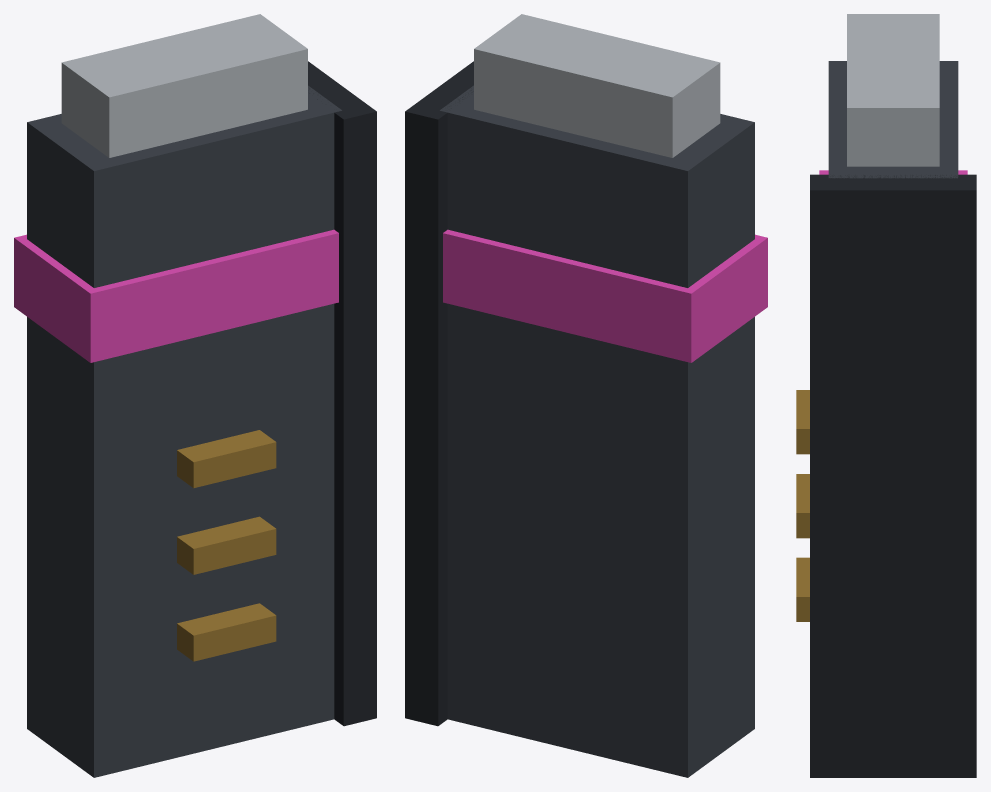
The model's file is flechette-mag-plasma.glb.
The picture shows the model from 3 angles, left to right: view 1: azimuth 30°, elevation 25°; view 2: azimuth 150°, elevation 25°; view 3: azimuth 270°, elevation 25°; orthographic projection. The views are drawn at different scales.
Parts seen in each view (by area): view 1: m; view 2: m; view 3: m.
Part boxes in pixels (x1,y1,x2,y2): m: (14, 14, 376, 777); m: (405, 14, 767, 777); m: (796, 14, 976, 777).
Bounding box in the file's own units: 0.0309 × 0.07 × 0.0177.
